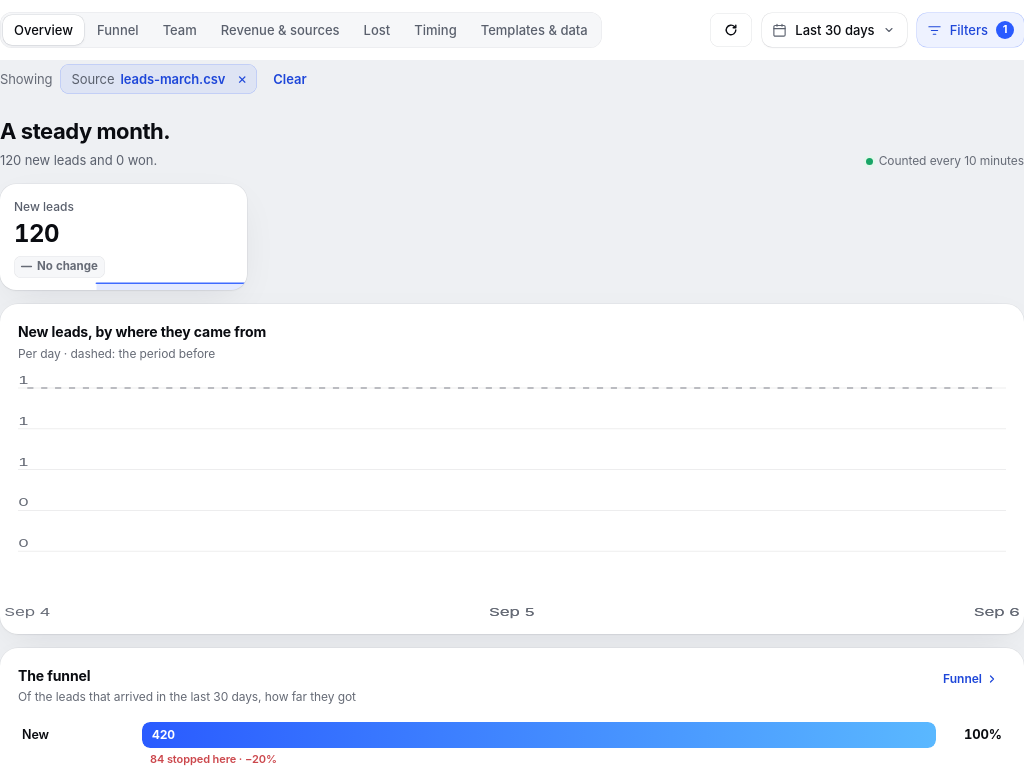
Test: Analytics filters and export (8D-3) › the coverage footer compares the filtered leads with every lead in the range
What coordinates should you click on to do the following:
click the button "Filters 1"
I would click on:
 (970, 30)
Its box is top-left (917, 13), bottom-right (1023, 47).
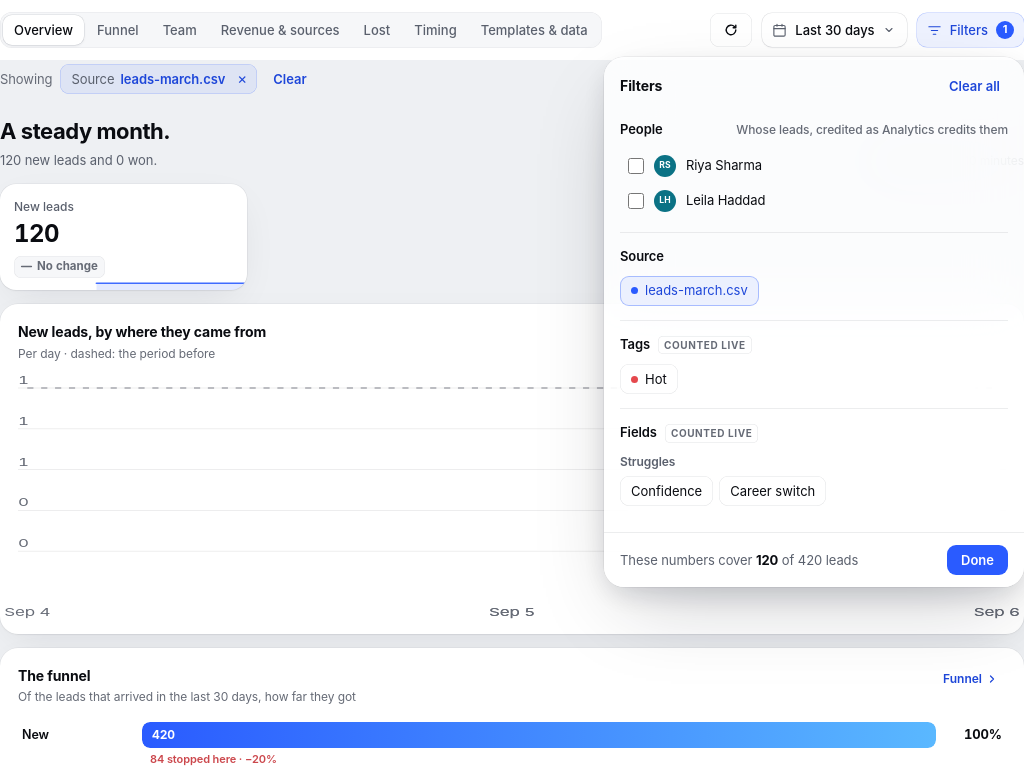
Check: the text "These numbers cover 120 of 420 leads" is shown, box top-left (620, 550), bottom-right (858, 569)
